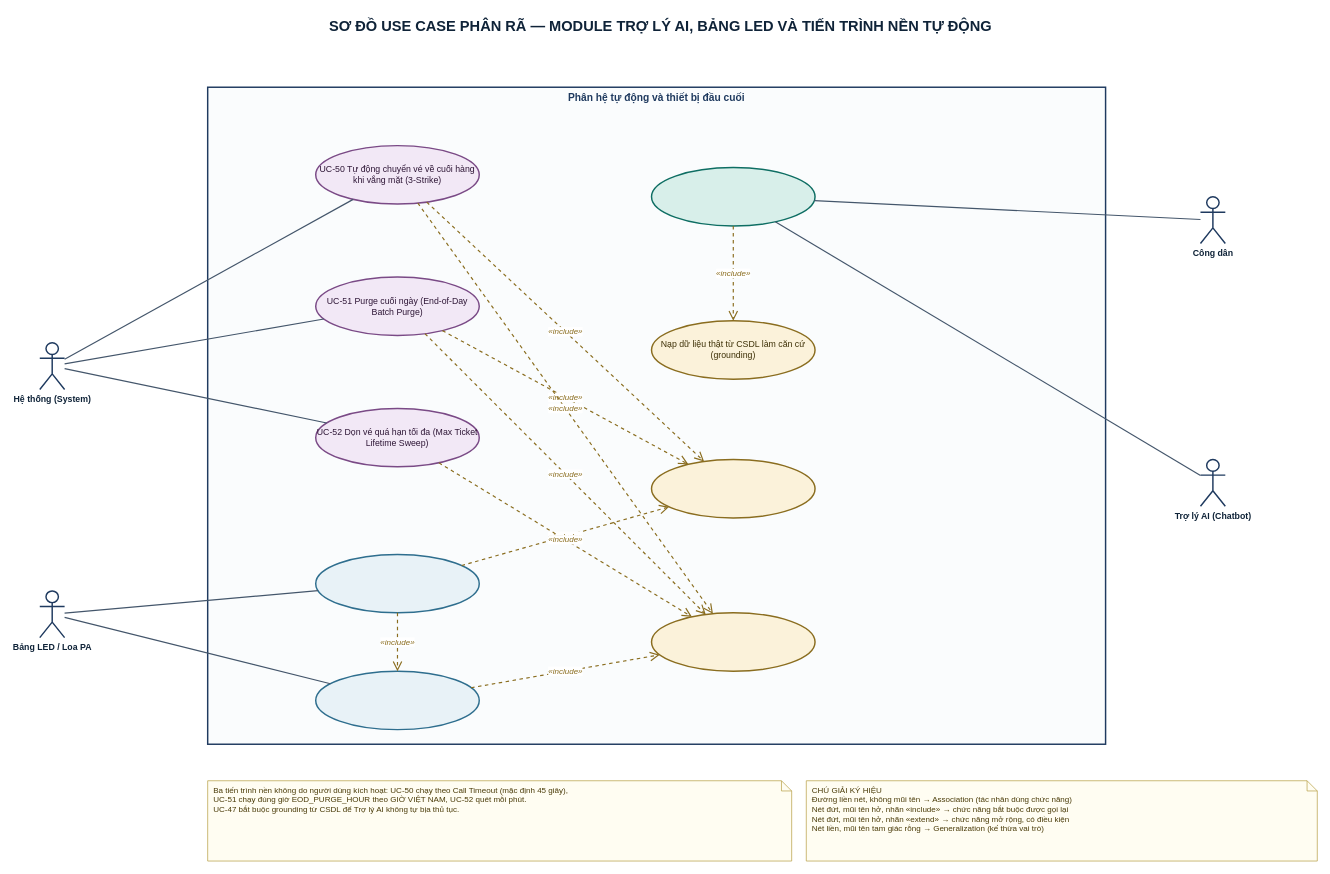
The diagram is 1330 pixels wide and 874 high, and some of its shapes have lost their labels. Each missing label, with the box of its shape:
Phát sự kiện realtime WebSocket: (650, 458, 815, 518)
UC-47 Hỏi đáp Trợ lý AI (Rule-based + Gemini RAG): (650, 166, 815, 226)
UC-48 Hiển thị số đang gọi trên Bảng LED: (315, 553, 480, 613)
UC-49 Phát loa gọi số (TTS): (315, 670, 480, 730)
Đọc tham số động từ system_configs: (650, 612, 815, 672)
